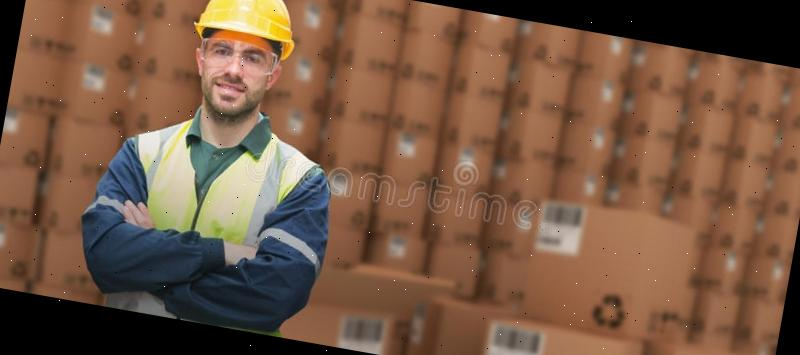helmet: (188, 0, 307, 58)
wear: (99, 120, 322, 338)
